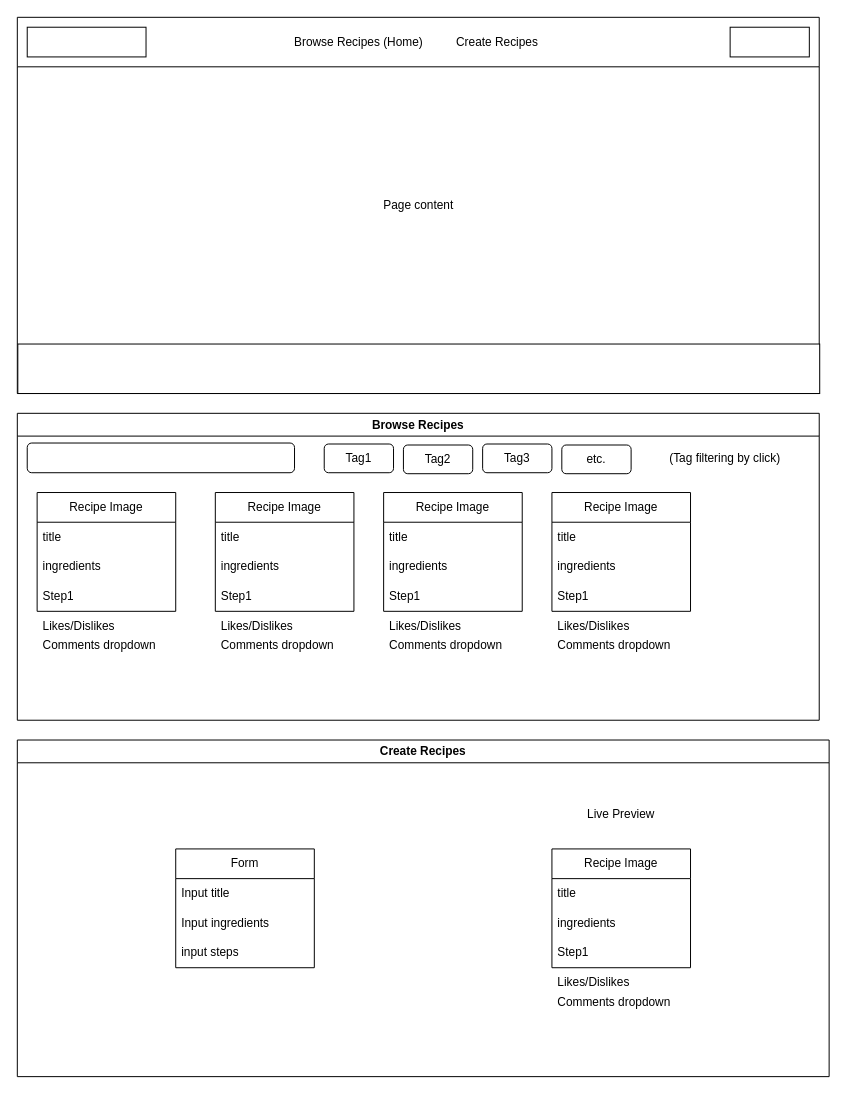
Image size: 846x1094. Some labels were removed from this diagram. Here are the shapes that lost their labels. From the top down, the centre of each, then its label:
point 86,41: Recipe (logo)
point 769,41: Login/Logout Icon
point 418,368: Bottom section (aka all rights reserved)
point 160,457: Recipe search bar (target recipe name )
